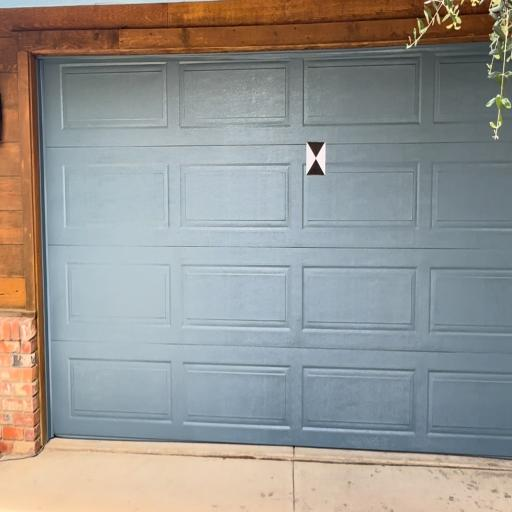target: (306, 142, 325, 176)
